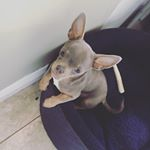puppy: (35, 12, 126, 112)
